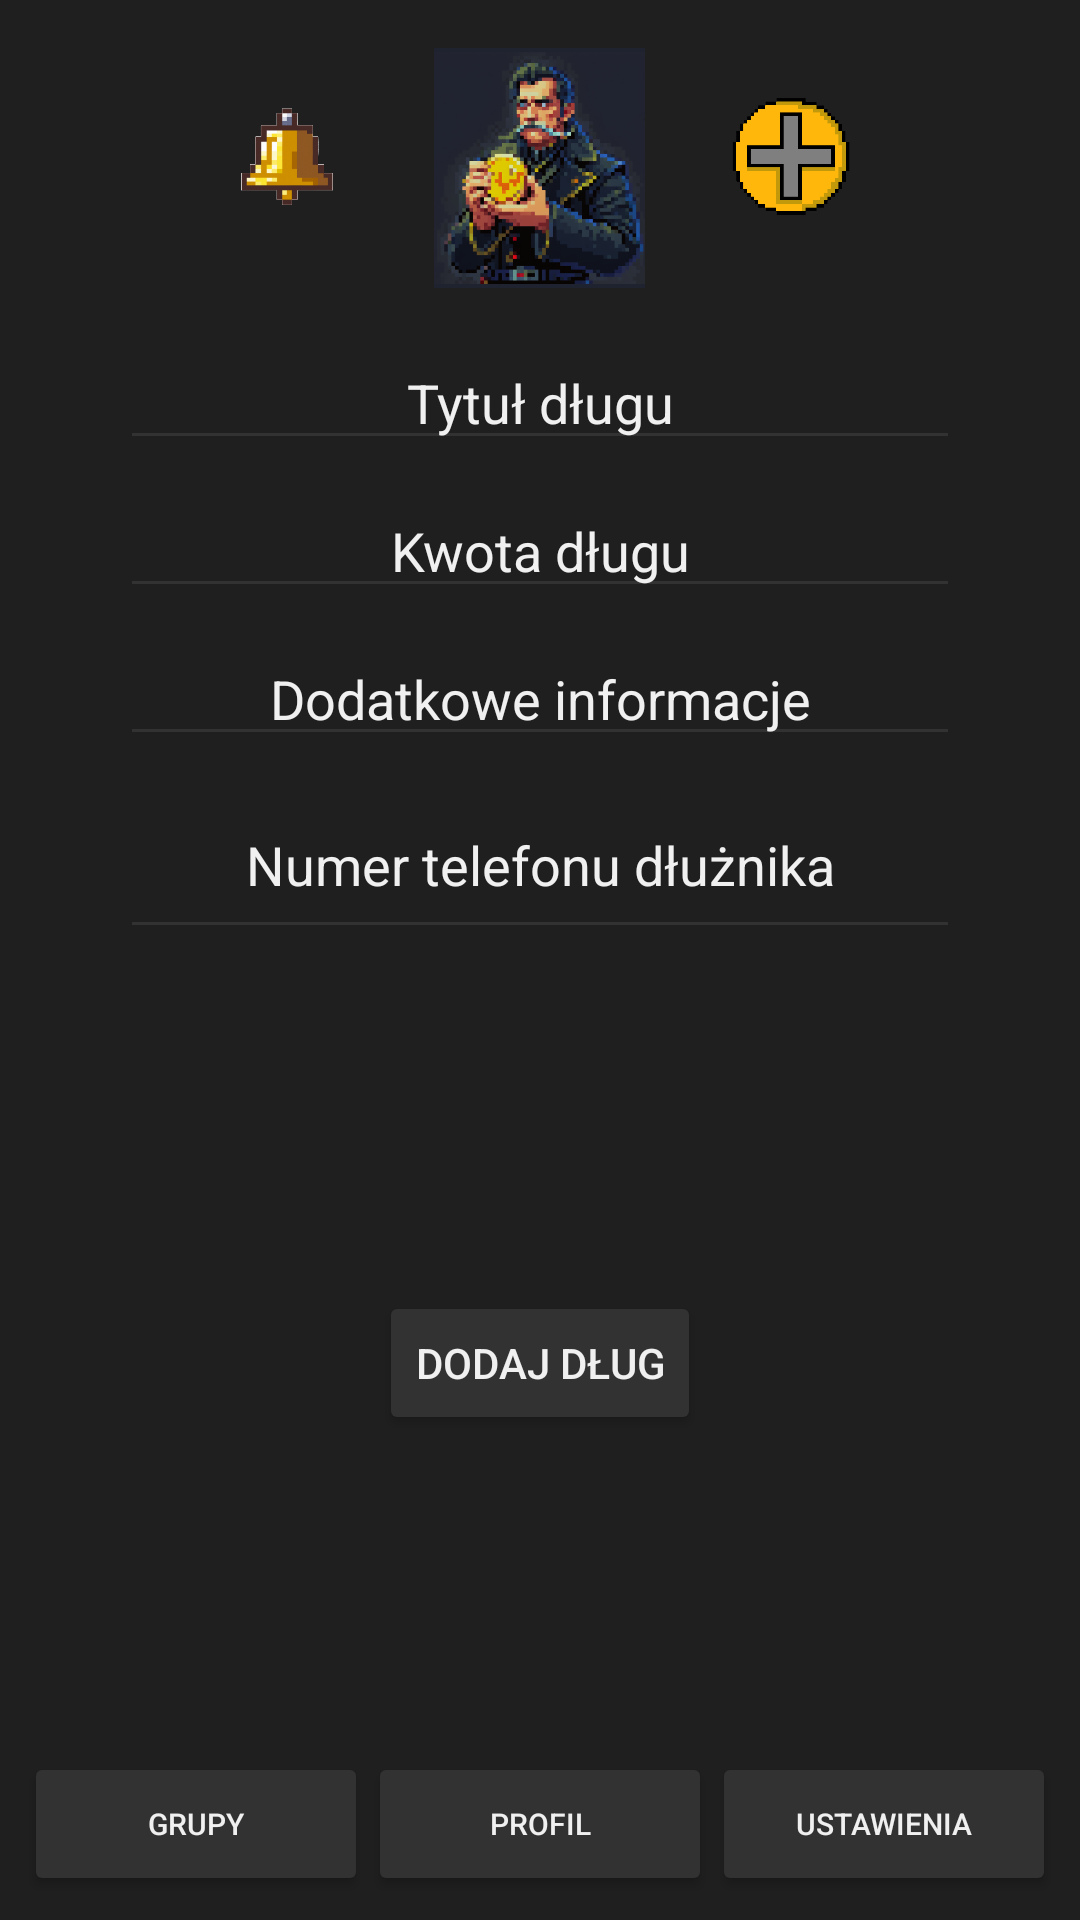

Locate icon controls on the screen. Image size 1080px×1920px, boxes as (left=x1, top=y1, right=x2, bottom=y2).
Dodawanie Długów: (left=733, top=98, right=849, bottom=215)
Notifications Icon: (left=241, top=108, right=333, bottom=205)
